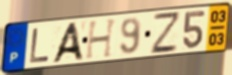5: (182, 10, 207, 51)
9: (119, 16, 142, 56)
A: (49, 21, 86, 65)
H: (84, 17, 119, 61)
L: (29, 27, 52, 65)
Z: (150, 11, 181, 56)
